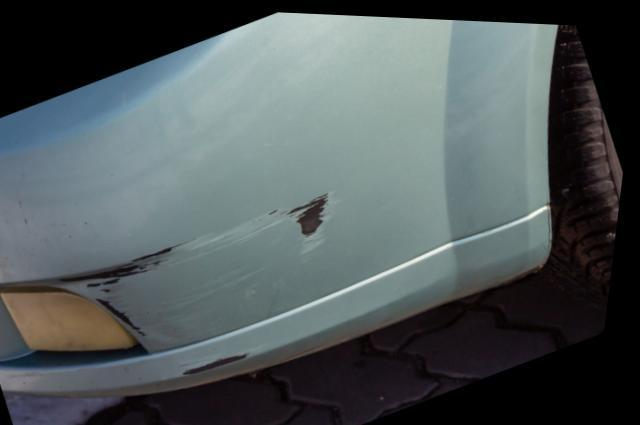scratch: (70, 183, 343, 337), (186, 348, 259, 377)
